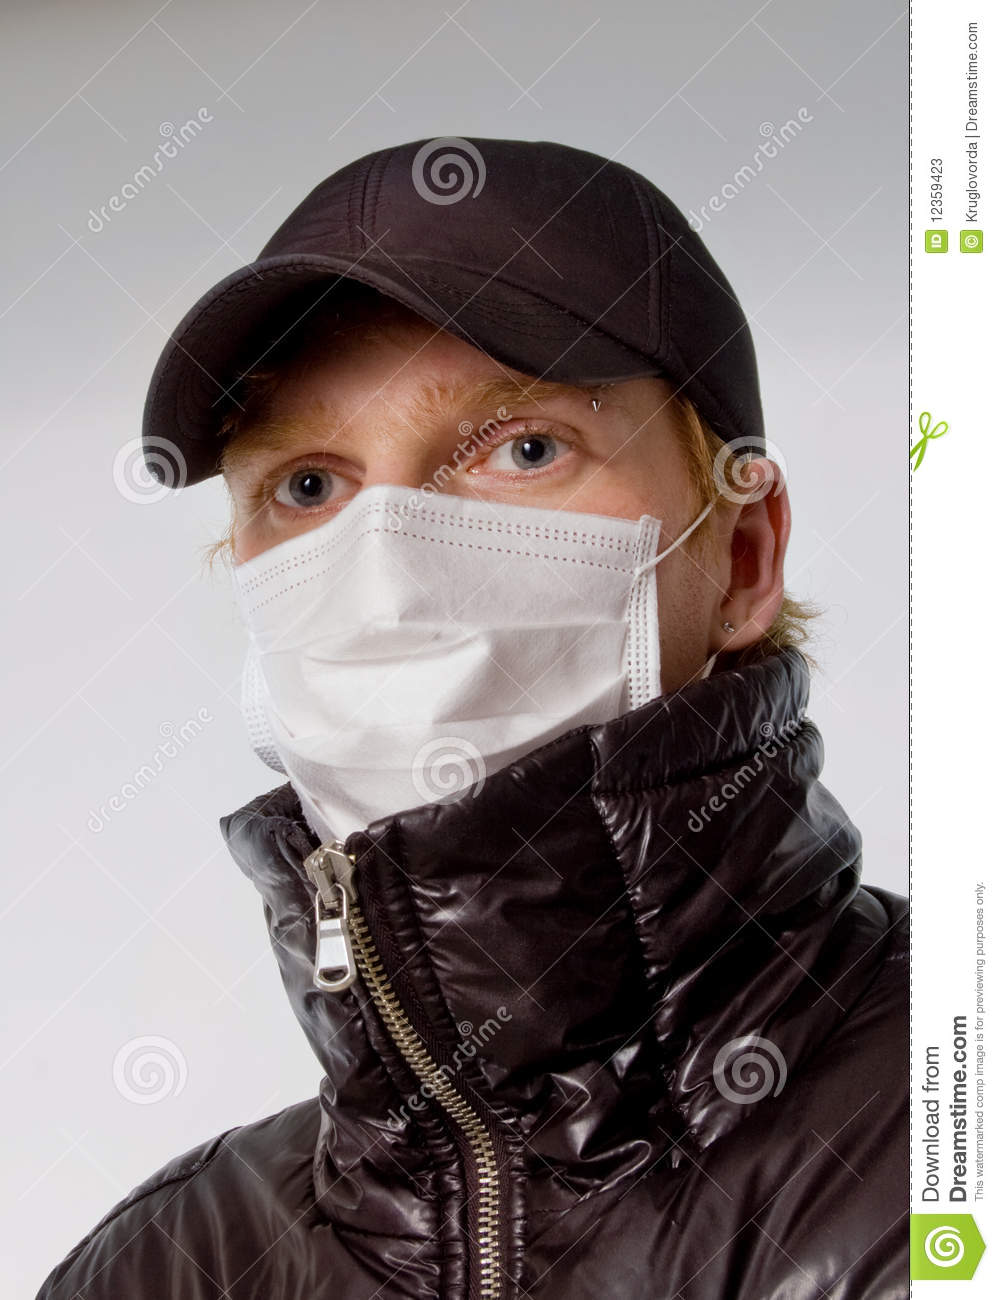mask: (240, 504, 655, 828)
